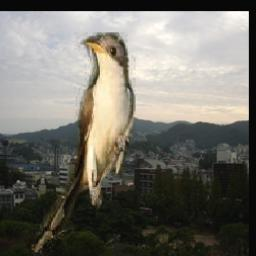Cuckoo: (32, 33, 136, 256)
